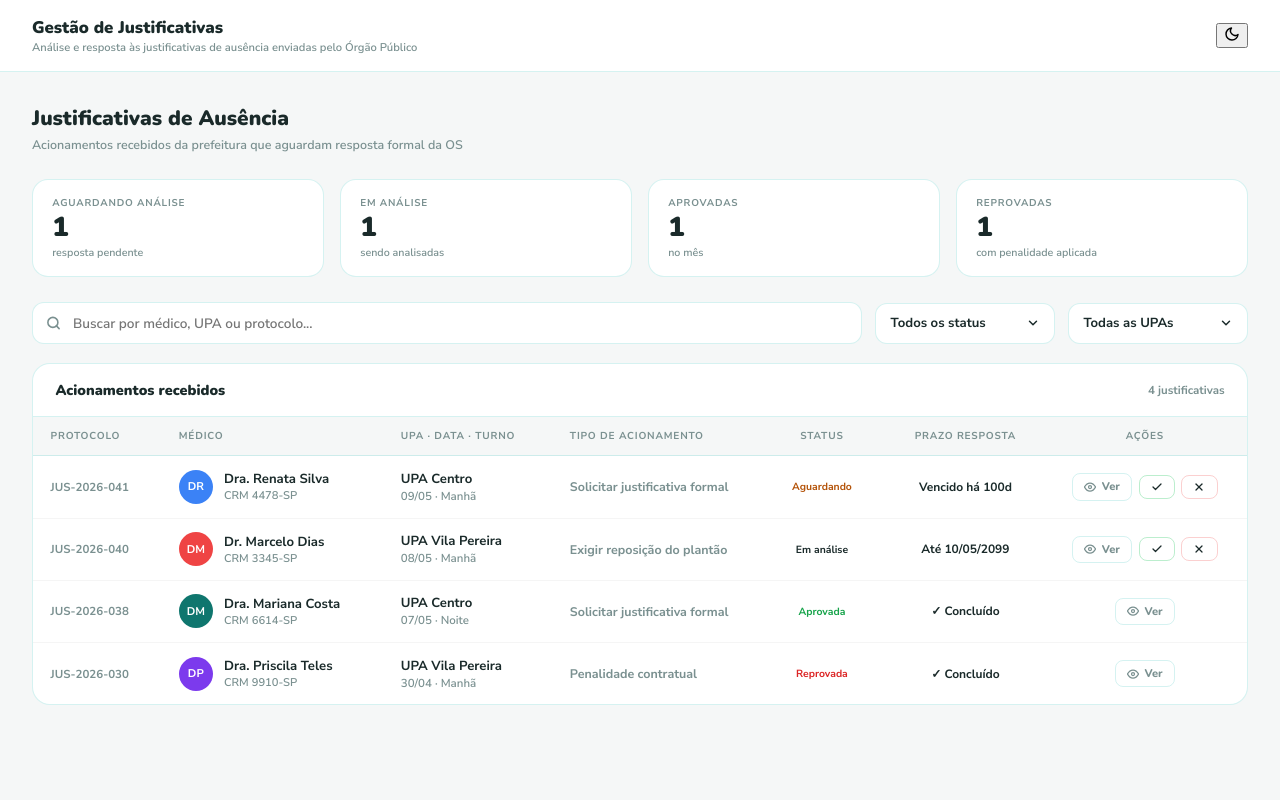
Scenario: <AdminJustificativas /> › modal mostra a resposta da OS para justificativa aprovada
This screenshot has width=1280, height=800.
Check: the text "JUS-2026-038" is shown, box [51,603,129,619]
Note: Encontra a linha da aprovada e clica em "Ver"
Click the button with class "jus-act-btn" in the row of "JUS-2026-038".
click(1145, 611)  # box [1115,598,1175,625]
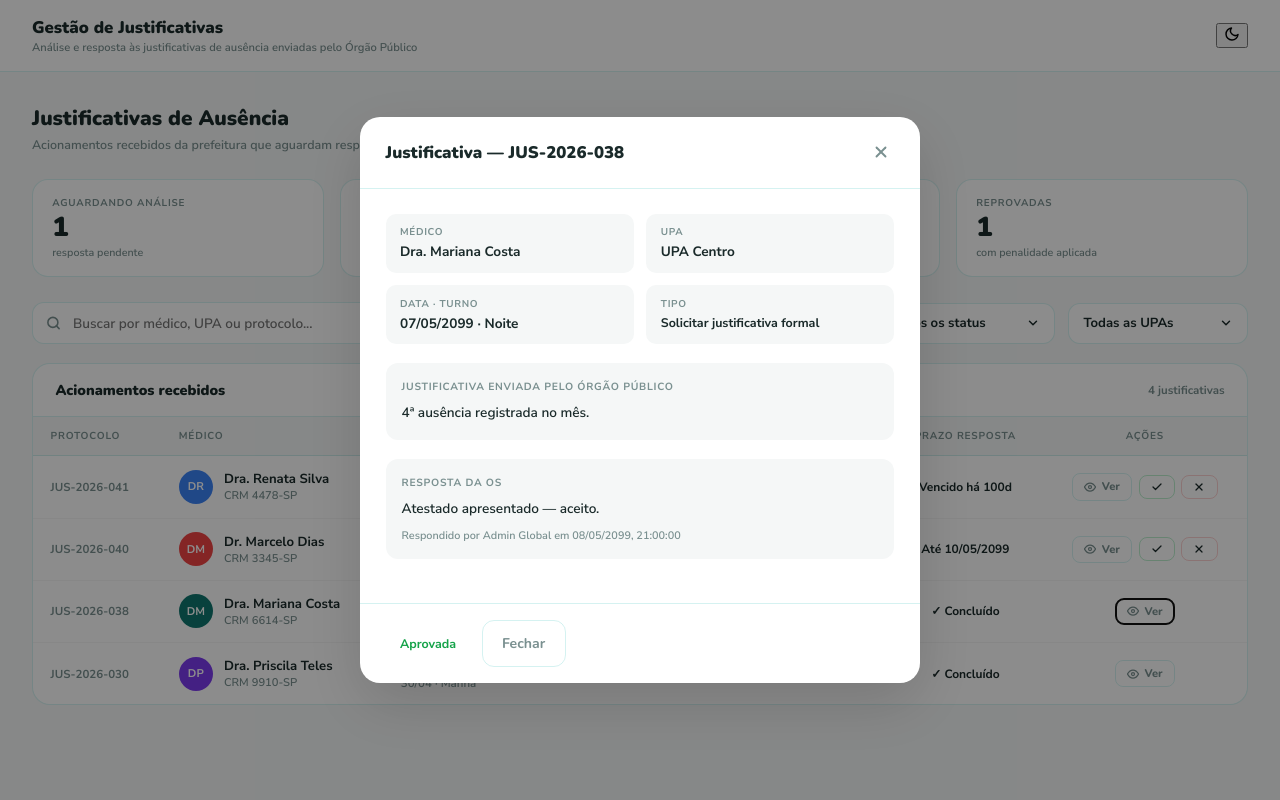
Check: the text "Resposta da OS" is shown, box [402,475,502,490]
Check: the text "Atestado apresentado — aceito." is shown, box [402,499,599,518]
